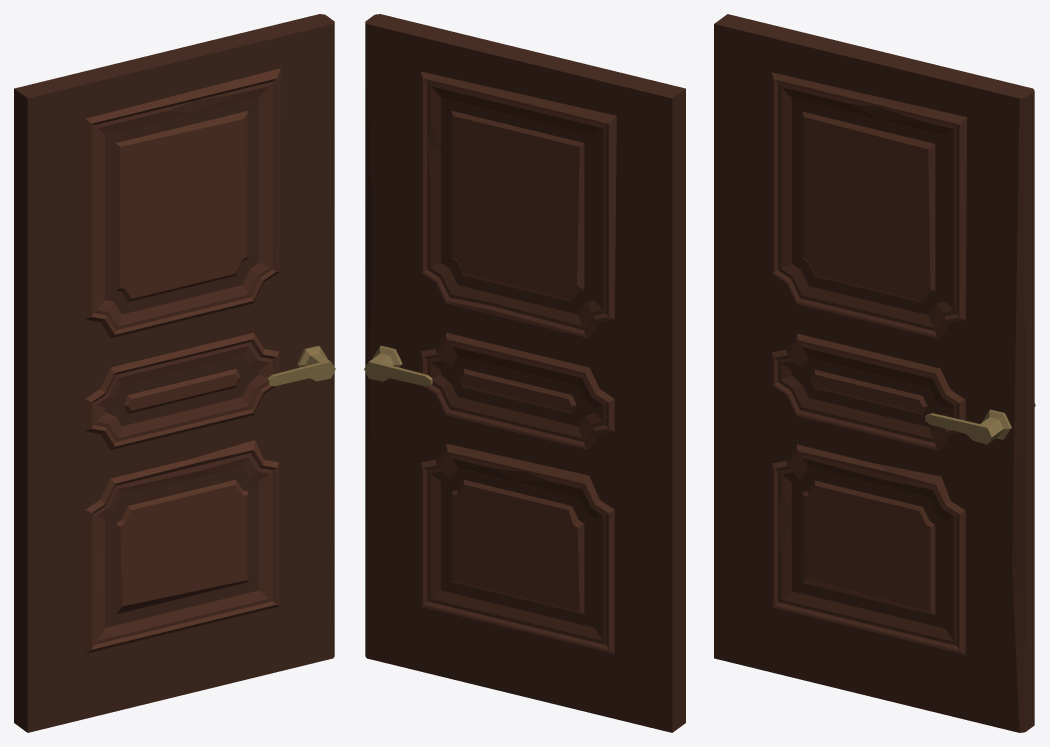
The model's file is SM_Bld_Door_03.fbx.
The picture shows the model from 3 angles, left to right: view 1: azimuth 30°, elevation 25°; view 2: azimuth 150°, elevation 25°; view 3: azimuth 330°, elevation 25°; orthographic projection.
Visible parts, largest first — view 1: SM_Bld_Door_03; view 2: SM_Bld_Door_03; view 3: SM_Bld_Door_03.
Boxes of the visible parts, left/top/right/bottom form: SM_Bld_Door_03: left=14, top=14, right=335, bottom=732; SM_Bld_Door_03: left=364, top=14, right=685, bottom=732; SM_Bld_Door_03: left=714, top=14, right=1035, bottom=732.
Size of the model in its own units: 1003 by 1967 by 247.
